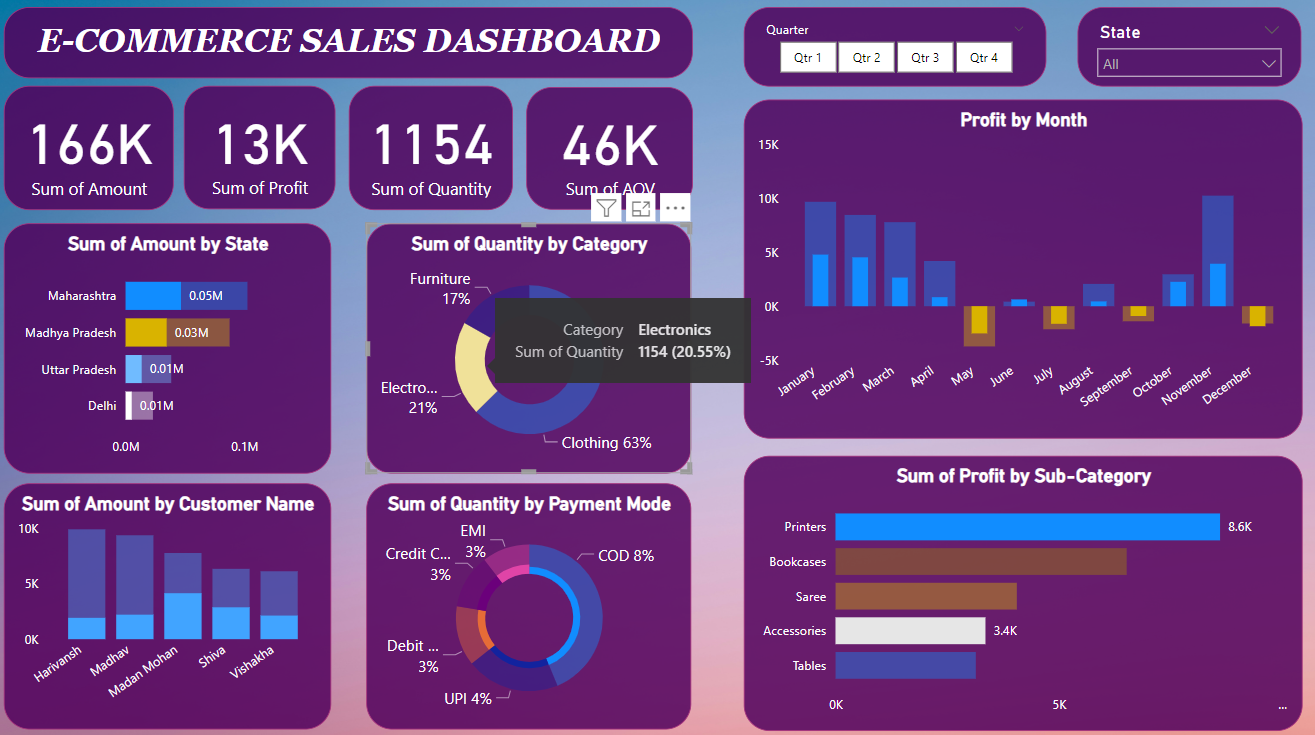

What the dashboard file says about the page in this screenshot:
{"tool":"powerbi","page":{"name":"Page 1","canvas":[1280,720],"ordinal":0},"visuals":[{"type":"textbox","box":[13.3,14.5,664.5,68.7],"z":0},{"type":"columnChart","title":"Profit by Month","fields":{"Category":["Orders.Order Date.Variation.Date Hierarchy.Month"],"Y":["Sum(Details.Profit)"]},"box":[727.2,103.7,539.1,326.8],"z":1000},{"type":"barChart","fields":{"Category":["Details.Sub-Category"],"Y":["Sum(Details.Profit)"]},"box":[726,445,539.1,266.5],"z":2000},{"type":"donutChart","fields":{"Category":["Details.Category"],"Y":["Sum(Details.Quantity)"]},"box":[363,223.1,313.6,241.2],"z":3000},{"type":"donutChart","title":"Sum of Quantity by Payment Mode","fields":{"Y":["Sum(Details.Quantity)"],"Category":["Details.PaymentMode"]},"box":[362.5,473.9,313.6,238.6],"z":4000},{"type":"card","fields":{"Values":["Sum(Details.Amount)"]},"box":[13,91,164,120],"z":5000},{"type":"card","fields":{"Values":["Sum(Details.Quantity)"]},"box":[346,90,158,120],"z":6000},{"type":"card","fields":{"Values":["Sum(Details.Profit)"]},"box":[187,91,146,119],"z":7000},{"type":"card","fields":{"Values":["Sum(Details.AOV)"]},"box":[517,92,161,118],"z":8000},{"type":"barChart","fields":{"Category":["Orders.State"],"Y":["Sum(Details.Amount)"]},"box":[13.3,223.1,316,241.2],"z":9000},{"type":"columnChart","title":"Sum of Amount by Customer Name","fields":{"Category":["Orders.CustomerName"],"Y":["Sum(Details.Amount)"]},"box":[13.6,473.9,315.9,238.6],"z":10000},{"type":"slicer","fields":{"Values":["Orders.Order Date.Variation.Date Hierarchy.Quarter"]},"box":[727.2,14.5,291.9,77.2],"z":11000},{"type":"slicer","fields":{"Values":["Orders.State"]},"box":[1049.2,14.5,215.9,77.2],"z":12000}]}

Visuals, with their boxes in screenshot pixels (x1, y1, x2, y2), scaled from the page's 1280x720 canvas onto the 1315x735 screenshot:
textbox: detection(14, 15, 696, 85)
"Profit by Month" columnChart: detection(747, 106, 1301, 439)
barChart - Details.Sub-Category x Sum(Details.Profit): detection(746, 454, 1300, 726)
donutChart - Details.Category x Sum(Details.Quantity): detection(373, 228, 695, 474)
"Sum of Quantity by Payment Mode" donutChart: detection(372, 484, 695, 727)
card - Sum(Details.Amount): detection(13, 93, 182, 215)
card - Sum(Details.Quantity): detection(355, 92, 518, 214)
card - Sum(Details.Profit): detection(192, 93, 342, 214)
card - Sum(Details.AOV): detection(531, 94, 697, 214)
barChart - Orders.State x Sum(Details.Amount): detection(14, 228, 338, 474)
"Sum of Amount by Customer Name" columnChart: detection(14, 484, 339, 727)
slicer - Orders.Order Date.Variation.Date Hierarchy.Quarter: detection(747, 15, 1047, 94)
slicer - Orders.State: detection(1078, 15, 1300, 94)
